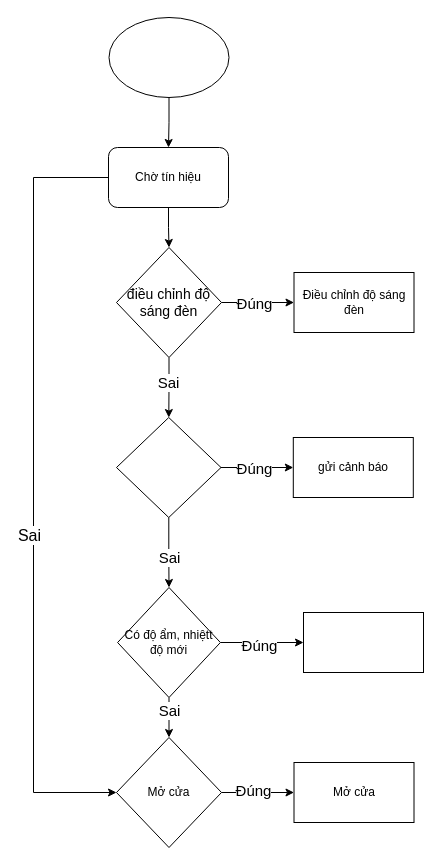
The diagram is 441 pixels wide and 865 high, and some of its shapes have lost their labels. Each missing label, with the box of its shape:
Bắt đầu: (108, 16, 229, 98)
gửi dữ liệu độ ẩm nhiệt độ: (302, 612, 424, 672)
nồng độ khí gas cao: (116, 416, 221, 518)
